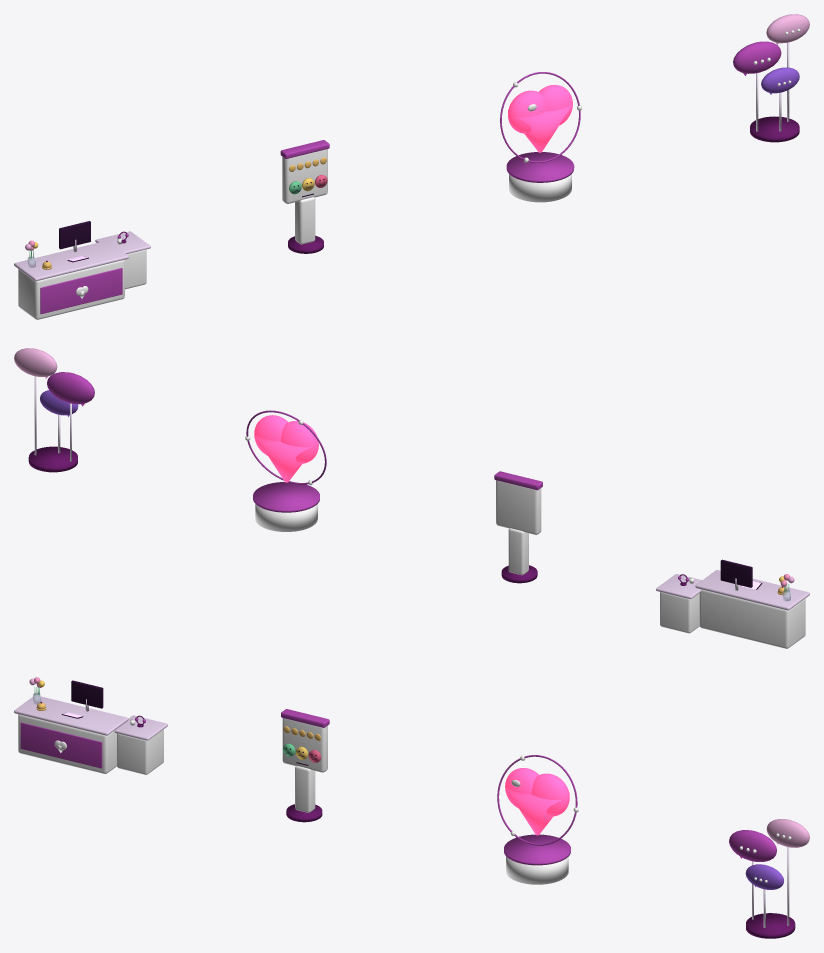
The model's file is client_a.glb.
3 renders of one model, top to bottom at view 1: azimuth 30°, elevation 25°; view 2: azimuth 150°, elevation 25°; view 3: azimuth 330°, elevation 25°, orthographic.
Parts seen in each view (by area): view 1: DeskTop, FrontPlate, DeskBody, PlinthCap, Head, Plinth, BubbleBody0, Tip, Base.001, LobeL, BubbleBody1, Pillar (+6 smaller); view 2: DeskBody, Head, DeskTop, PlinthCap, DeskWing, Plinth, BubbleBody0, Tip, Base.001, LobeL, BubbleBody1, Pillar (+3 smaller); view 3: DeskTop, FrontPlate, DeskBody, PlinthCap, DeskWing, Head, Plinth, BubbleBody0, Tip, LobeR, Base.001, BubbleBody1 (+7 smaller).
Boxes of the visible parts, bbox=[...] form: DeskTop: bbox=[14, 240, 129, 281]; FrontPlate: bbox=[40, 268, 122, 314]; DeskBody: bbox=[18, 260, 124, 319]; PlinthCap: bbox=[506, 152, 574, 182]; Head: bbox=[282, 149, 327, 203]; Plinth: bbox=[509, 174, 571, 202]; BubbleBody0: bbox=[733, 41, 781, 73]; Tip: bbox=[508, 103, 572, 152]; Base.001: bbox=[750, 116, 799, 142]; LobeL: bbox=[508, 90, 545, 133]; BubbleBody1: bbox=[766, 14, 809, 43]; Pillar: bbox=[295, 197, 315, 244]; DeskBody: bbox=[699, 589, 805, 648]; Head: bbox=[496, 480, 541, 534]; DeskTop: bbox=[695, 570, 809, 610]; PlinthCap: bbox=[253, 482, 319, 512]; DeskWing: bbox=[660, 592, 699, 633]; Plinth: bbox=[255, 504, 317, 531]; BubbleBody0: bbox=[47, 372, 94, 404]; Tip: bbox=[254, 433, 312, 482]; Base.001: bbox=[28, 446, 77, 472]; LobeL: bbox=[281, 421, 318, 463]; BubbleBody1: bbox=[14, 348, 57, 376]; Pillar: bbox=[508, 528, 528, 575]; DeskTop: bbox=[14, 695, 128, 735]; FrontPlate: bbox=[20, 722, 102, 768]; DeskBody: bbox=[18, 714, 116, 773]; PlinthCap: bbox=[504, 834, 570, 865]; DeskWing: bbox=[117, 729, 163, 774]; Head: bbox=[282, 718, 327, 772]; Plinth: bbox=[506, 856, 568, 884]; BubbleBody0: bbox=[729, 830, 776, 861]; Tip: bbox=[505, 786, 569, 835]; LobeR: bbox=[531, 773, 569, 816]; Base.001: bbox=[746, 913, 795, 938]; BubbleBody1: bbox=[766, 819, 809, 847].
Size of the model in its own units: 20.16 by 2.74 by 1.61.
